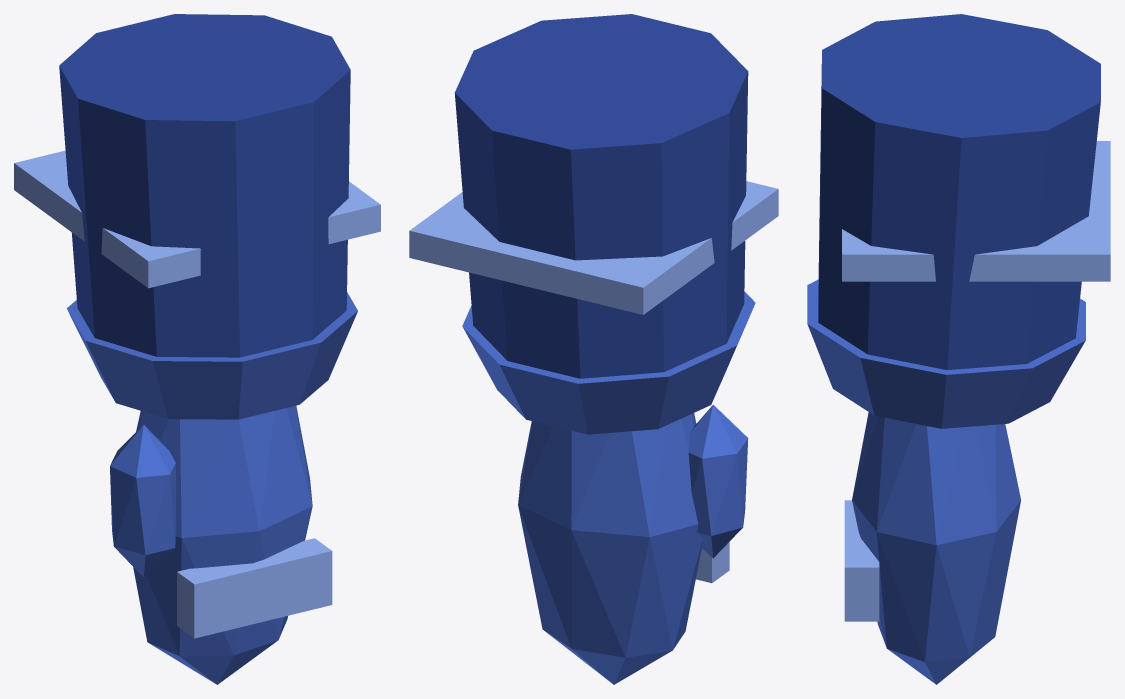
Rendered from gear_mithril_gauntlets_arm_l.glb.
The picture shows the model from 3 angles, left to right: view 1: azimuth 30°, elevation 25°; view 2: azimuth 150°, elevation 25°; view 3: azimuth 270°, elevation 25°; orthographic projection.
Parts seen in each view (by area): view 1: gear_mithril_gauntlets_arm_l; view 2: gear_mithril_gauntlets_arm_l; view 3: gear_mithril_gauntlets_arm_l.
Boxes of the visible parts, x1,y1,x2,y2 form: gear_mithril_gauntlets_arm_l: (14,14,380,684); gear_mithril_gauntlets_arm_l: (409,14,778,684); gear_mithril_gauntlets_arm_l: (807,14,1110,684).
Size of the model in its own units: 0.118 by 0.2731 by 0.122.
